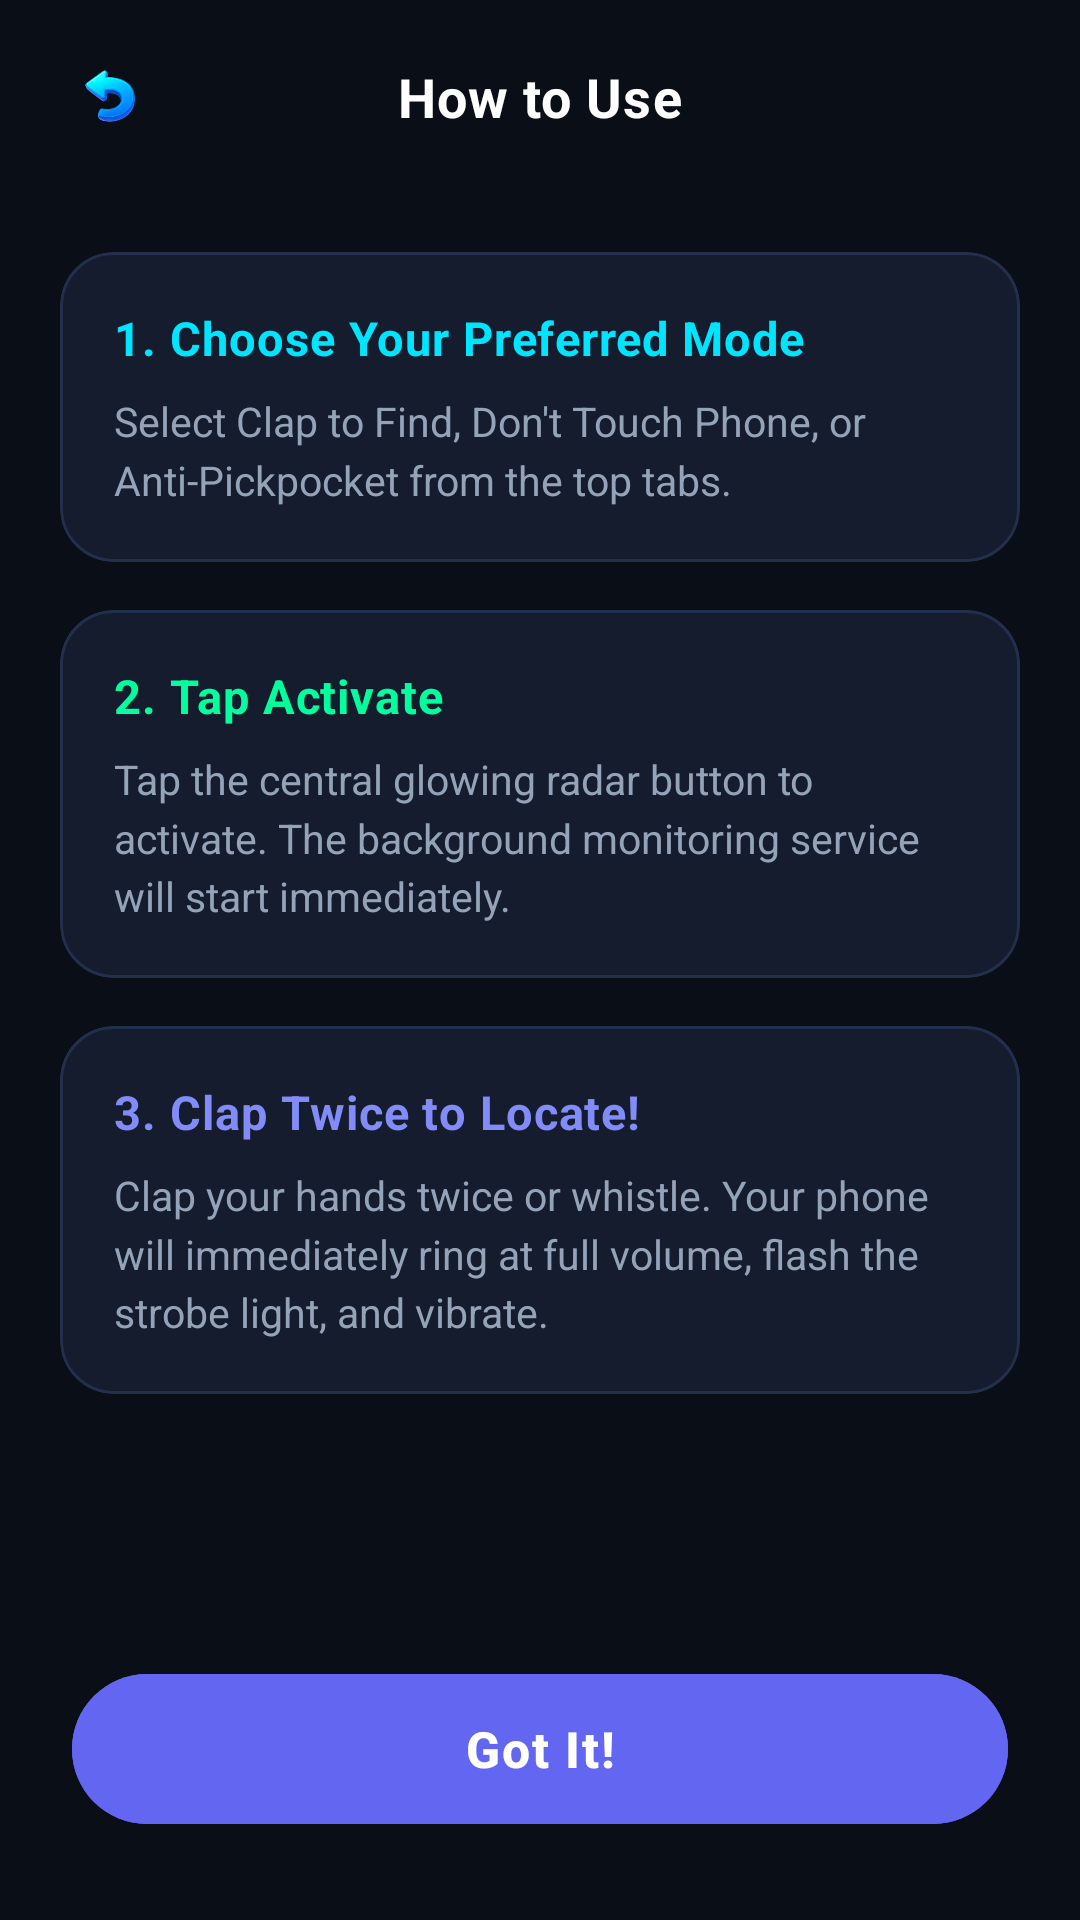

Where to tap for icons on this 1080px×1920px app screen, as (x,y):
boomclap back: (110,96)
